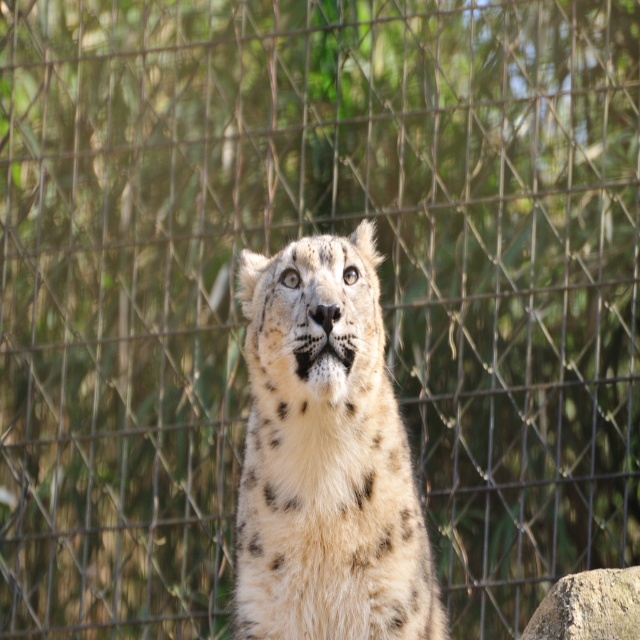Cheetah: (215, 212, 455, 640)
